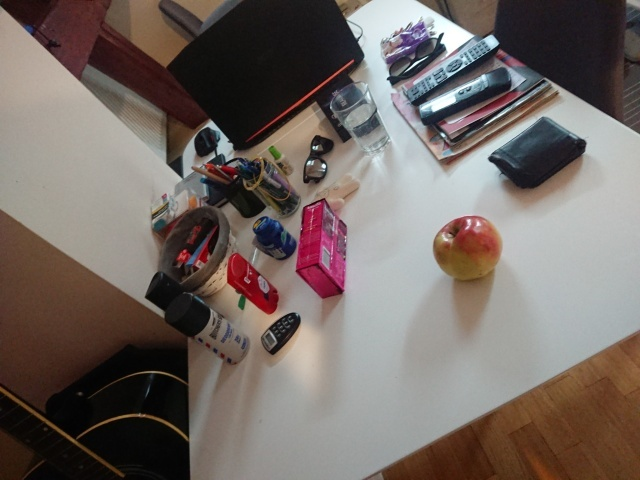Barcaffe Classic Original 225g: (294, 196, 350, 301)
